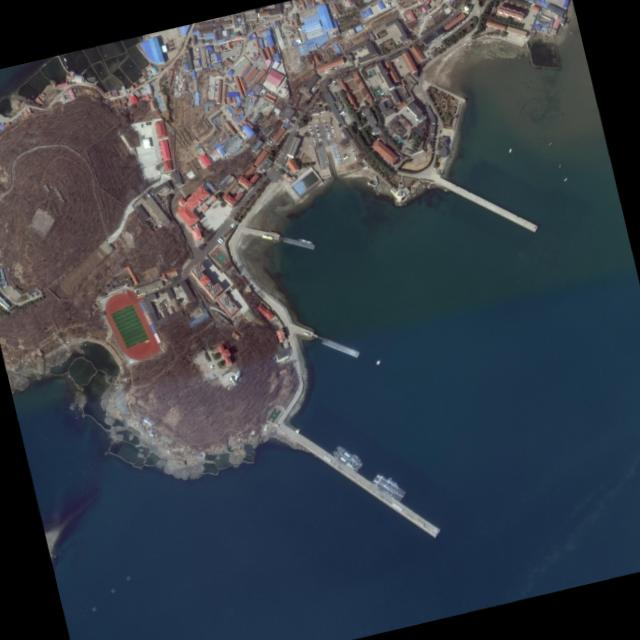large-vehicle: (216, 239, 221, 244), (217, 237, 222, 242)
ship: (374, 473, 405, 497), (370, 478, 401, 502), (334, 445, 362, 467), (330, 450, 358, 472), (296, 238, 311, 244)
